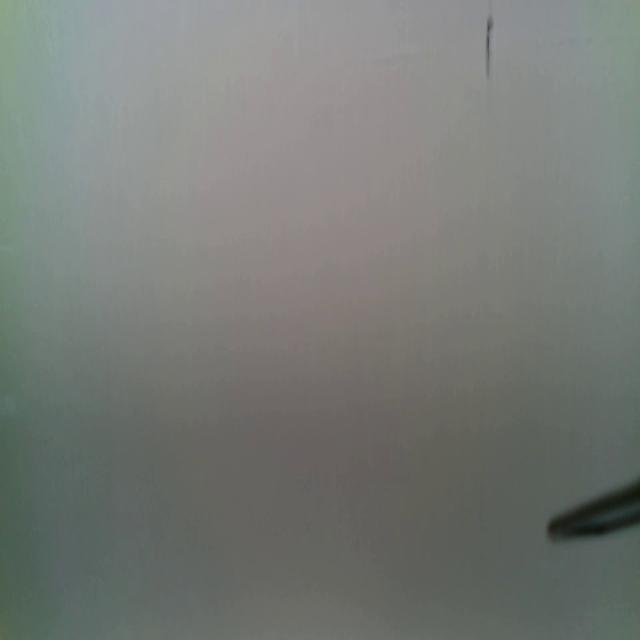hole: (483, 17, 495, 80)
